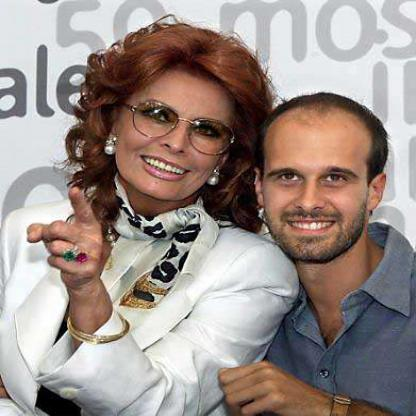face: (117, 45, 242, 204), (260, 97, 375, 267)
